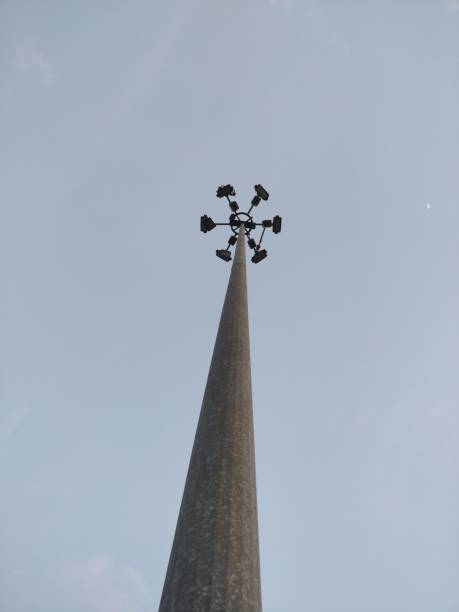light_pole: (166, 246, 264, 612)
